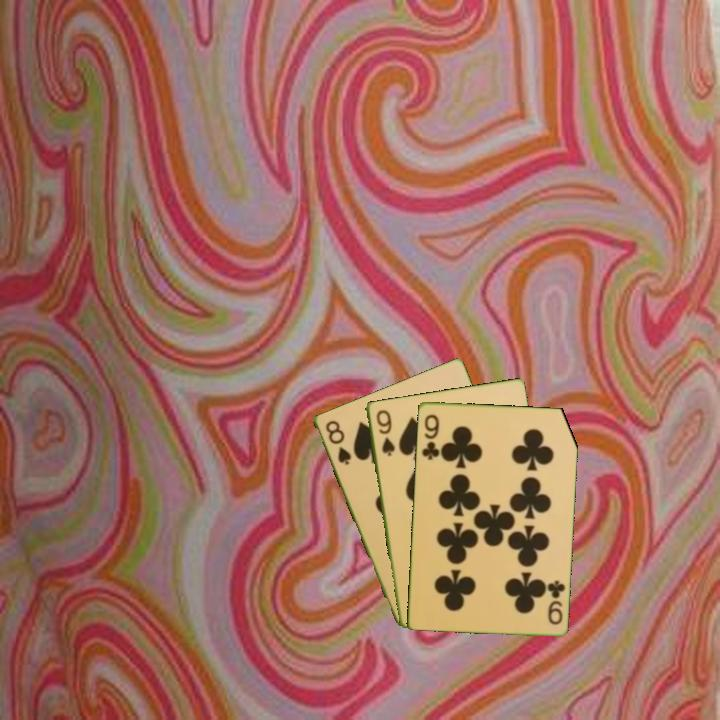8s: (321, 416, 354, 468)
9c: (543, 577, 568, 627), (418, 411, 442, 462)
9s: (372, 406, 397, 459)
